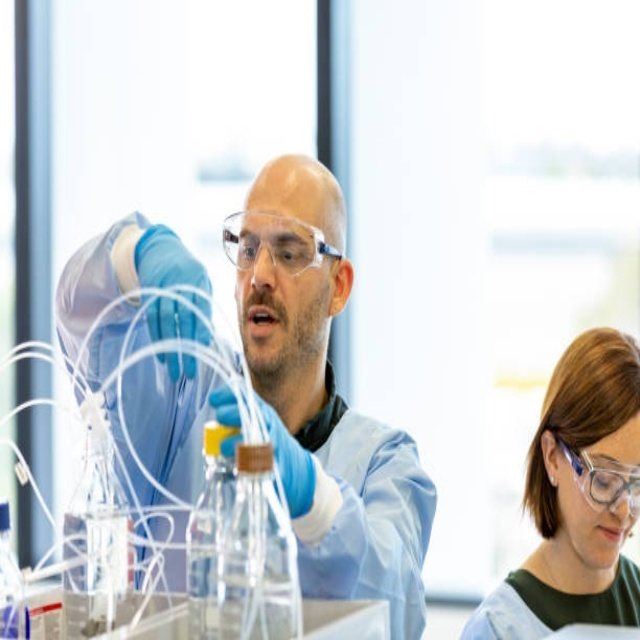Gafas: (222, 211, 343, 276), (555, 434, 639, 517)
Guantes: (209, 383, 318, 521), (125, 223, 214, 379)
Sin_mascara: (239, 296, 282, 358), (588, 518, 628, 568)
